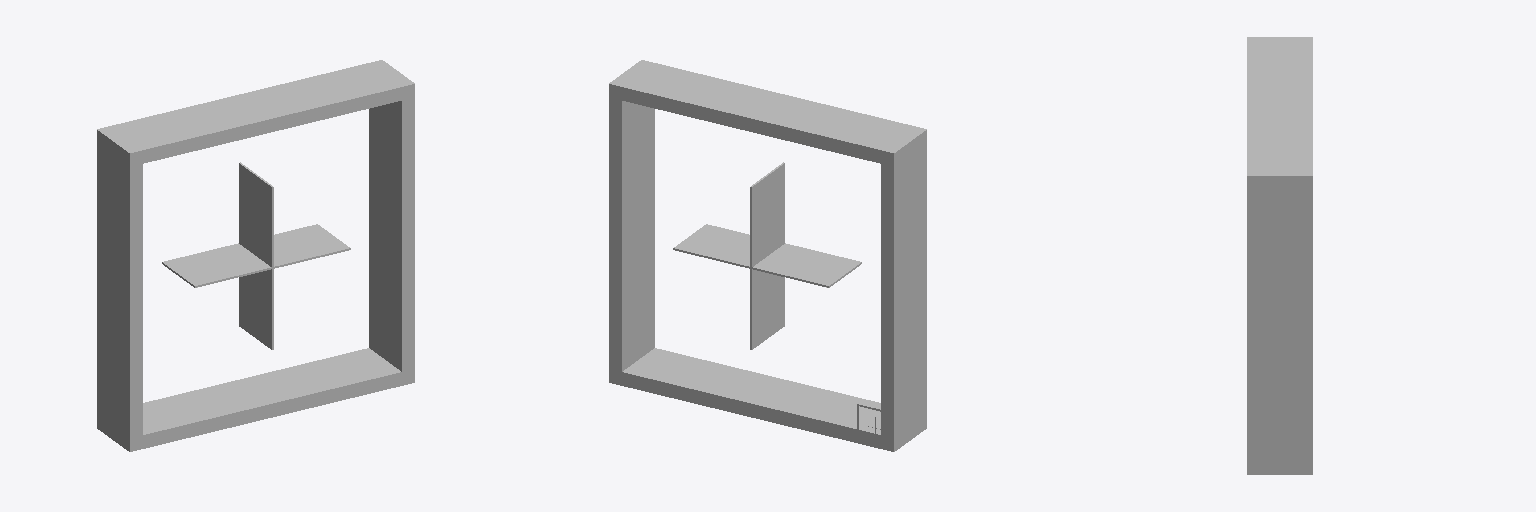
Rendered from Room68.obj.
The picture shows the model from 3 angles: view 1: azimuth 30°, elevation 25°; view 2: azimuth 150°, elevation 25°; view 3: azimuth 270°, elevation 25°; orthographic projection.
Parts seen in each view (by area): view 1: Curve.001_mesh_Curve.001; view 2: Curve.001_mesh_Curve.001; view 3: Curve.001_mesh_Curve.001.
Part boxes in pixels (x1,y1,x2,y2): Curve.001_mesh_Curve.001: (97, 60, 414, 451); Curve.001_mesh_Curve.001: (609, 60, 926, 451); Curve.001_mesh_Curve.001: (1247, 37, 1312, 474).
Bounding box in the file's own units: 1 × 1 × 0.2.